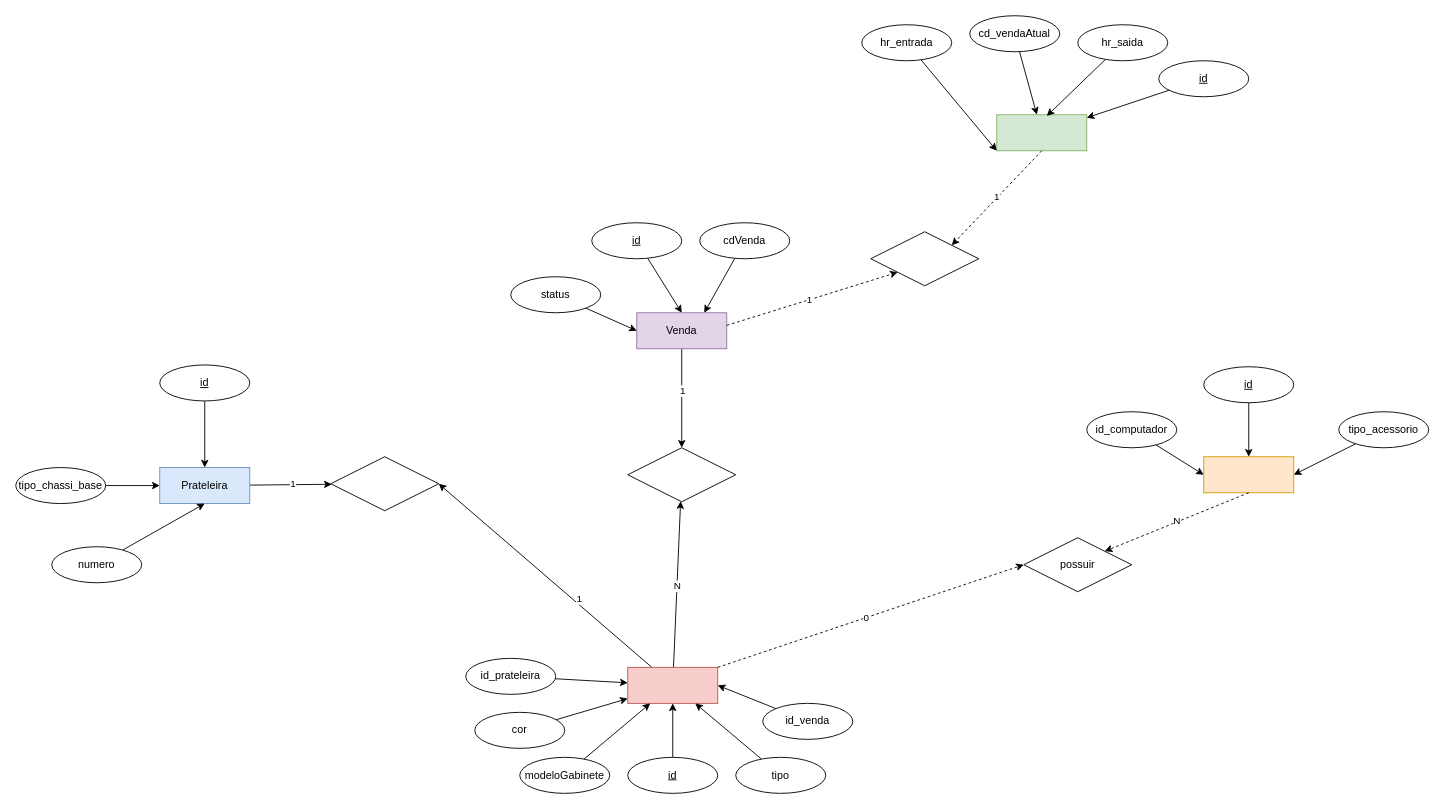
Some shapes in this 1445 by 809 pixel diagram are drawn without their labels. Here are the shapes that lost their labels. From the top down, the box of each, then its label:
(996, 114, 1087, 151): BancadaTeste
(870, 231, 979, 286): ocupa
(330, 456, 439, 511): alocar
(627, 447, 736, 502): conter
(1203, 456, 1294, 493): Acessorio
(627, 666, 718, 703): Computador
